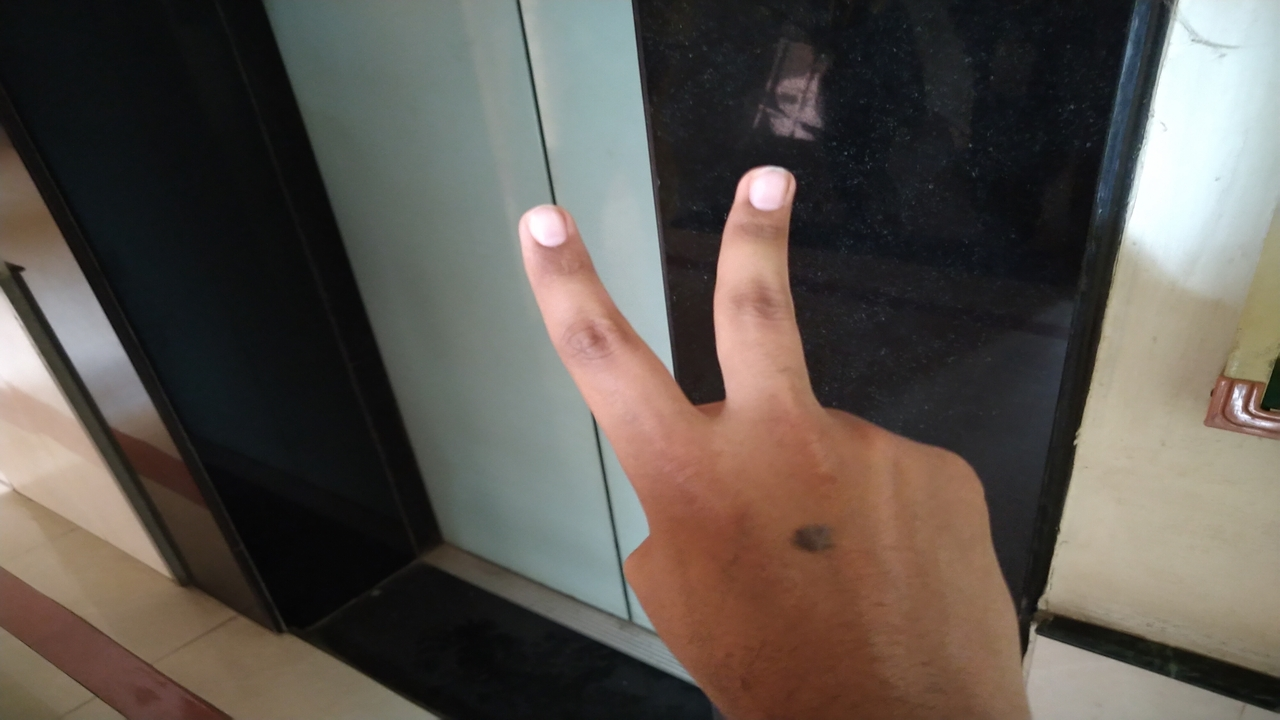fingertip: (504, 198, 580, 270), (734, 158, 806, 222)
